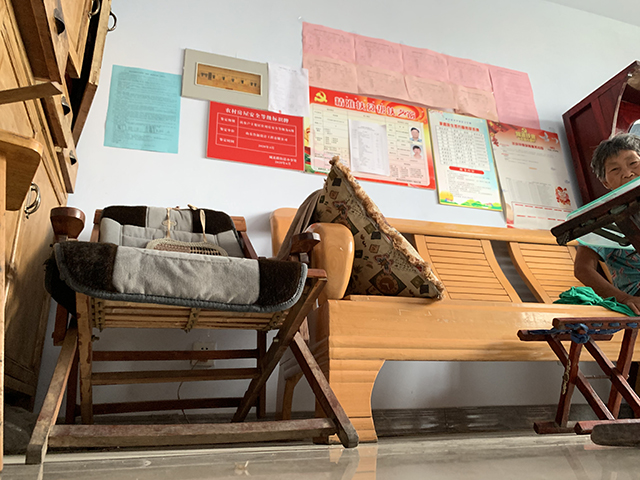sofa: (268, 207, 640, 445), (27, 202, 363, 463)
stool: (515, 316, 640, 438)
